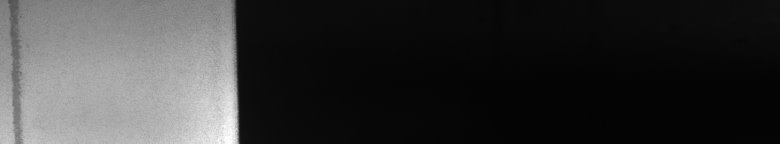hd: (4, 4, 31, 136)
